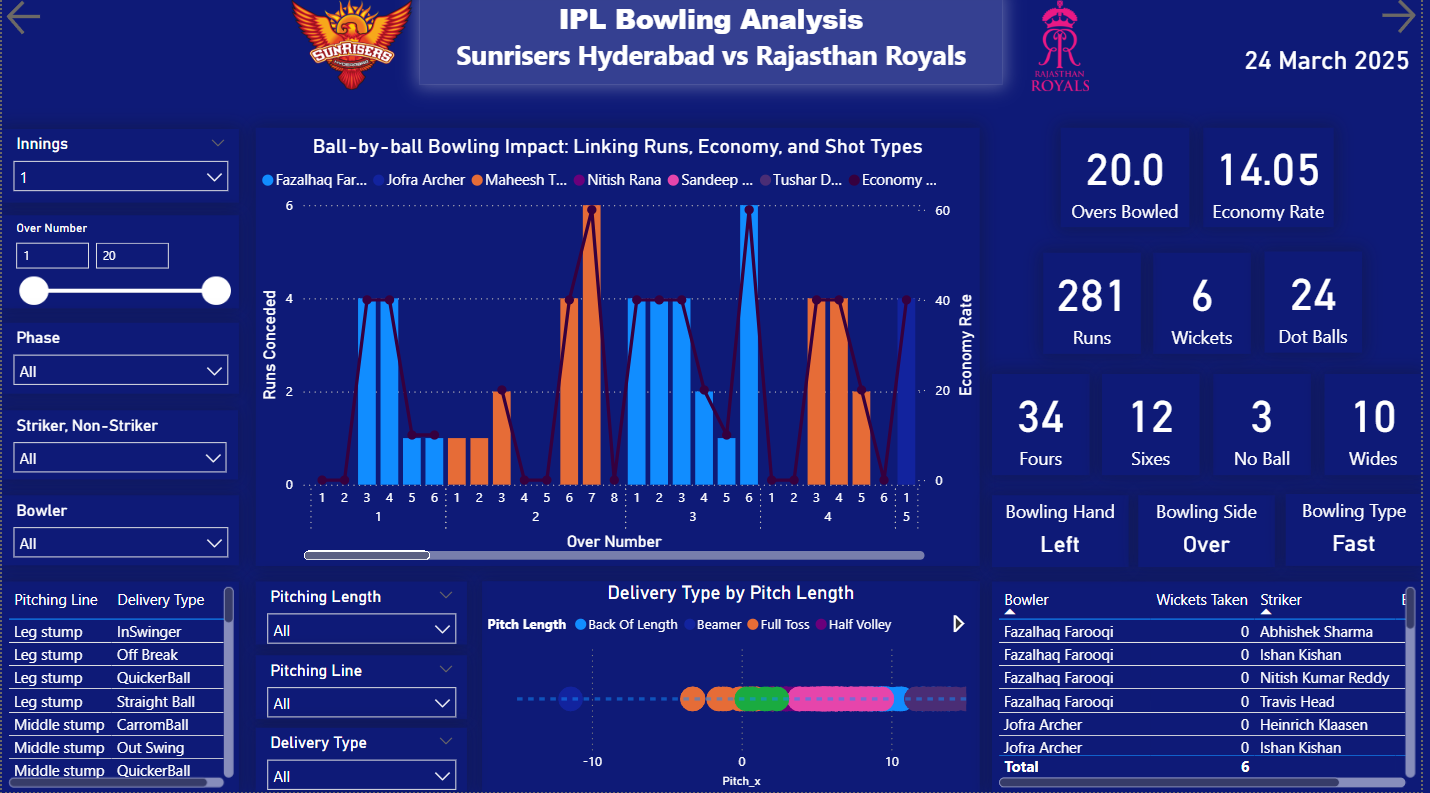

The page's visual inventory and layout, read from the dashboard file:
{"tool":"powerbi","page":{"name":"Bowler Analysis","canvas":[1280,720],"ordinal":1},"visuals":[{"type":"card","fields":{"Values":["Cricket Data.Wickets Taken"]},"box":[1038.4,233.6,88,91],"z":0},{"type":"card","fields":{"Values":["Cricket Data.Runs Conceded"]},"box":[938.9,233.3,88,91],"z":1000},{"type":"lineStackedColumnComboChart","title":"Ball-by-ball Bowling Impact: Linking Runs, Economy, and Shot Types","fields":{"Category":["Cricket Data.Over Number","Cricket Data.Over Ball","Cricket Data.Striker","Cricket Data.Shot Type"],"Y2":["Cricket Data.Economy Rate"],"Y":["Cricket Data.Runs Conceded"],"Series":["Cricket Data.Bowler"]},"box":[228.7,121.1,653,395],"z":2000},{"type":"scatterChart","title":"Delivery Type by Pitch Length ","fields":{"X":["Cricket Data.Pitch_x"],"Series":["Pitch Length Order.Pitch Length"]},"box":[432.9,529.5,448.8,190.8],"z":3000},{"type":"tableEx","fields":{"Values":["Cricket Data.Pitching Line","Cricket Data.Delivery Type"]},"box":[0,529.5,214,190.8],"z":4000},{"type":"tableEx","fields":{"Values":["Cricket Data.Bowler","Cricket Data.Wickets Taken","Cricket Data.Striker","Sum(Cricket Data.Batter Runs)"]},"box":[892.7,529.5,386.4,190.8],"z":5000},{"type":"card","fields":{"Values":["Sum(Cricket Data.No Ball)"]},"box":[1091.7,343.1,88,91],"z":6000},{"type":"card","fields":{"Values":["Sum(Cricket Data.Wides)"]},"box":[1192.4,342.9,88,91],"z":7000},{"type":"textbox","box":[376.6,0,525.8,81.9],"z":8000},{"type":"slicer","fields":{"Values":["Cricket Data.Innings"]},"box":[0,121.3,214,66],"z":9000},{"type":"slicer","fields":{"Values":["Cricket Data.Over Number"]},"box":[0,199.3,214,84.4],"z":10000},{"type":"slicer","fields":{"Values":["Cricket Data.Bowler"]},"box":[0,452.4,214,63.6],"z":11000},{"type":"slicer","fields":{"Values":["Cricket Data.Phase"]},"box":[0,296.5,214,64],"z":12000},{"type":"card","fields":{"Values":["Cricket Data.DotBalls"]},"box":[1138.7,232.6,88,91],"z":13000},{"type":"card","fields":{"Values":["Cricket Data.Fours"]},"box":[892.8,342.9,88,91],"z":14000},{"type":"card","fields":{"Values":["Cricket Data.Sixes"]},"box":[991.8,342.9,88,91],"z":15000},{"type":"actionButton","box":[1238.7,0,40.4,40.4],"z":16000},{"type":"card","fields":{"Values":["Min(Cricket Data.Date)"]},"box":[1110,42.8,170,33],"z":17000},{"type":"actionButton","box":[0,1.2,44,40.4],"z":18000},{"type":"card","title":"Bowling Hand","fields":{"Values":["Min(Cricket Data.Bowling Hand)"]},"box":[892.7,451.5,123,65],"z":19000},{"type":"card","title":"Bowling Side","fields":{"Values":["Min(Cricket Data.Bowling Side)"]},"box":[1024.7,451.5,123,65],"z":20000},{"type":"card","title":"Bowling Type","fields":{"Values":["Min(Cricket Data.Bowling Type)"]},"box":[1157.4,451.2,123,65],"z":21000},{"type":"card","title":"Economy Rate","fields":{"Values":["Cricket Data.Economy Rate"]},"box":[1083.2,121.1,117.4,89.3],"z":22000},{"type":"slicer","fields":{"Values":["Cricket Data.Pitching Length"]},"box":[228.7,529.5,190.8,57],"z":23000},{"type":"slicer","fields":{"Values":["Cricket Data.Pitching Line"]},"box":[228.9,595.8,190.8,57.5],"z":24000},{"type":"slicer","fields":{"Values":["Cricket Data.Delivery Type"]},"box":[229.2,661.8,190.8,57.5],"z":25000},{"type":"card","fields":{"Values":["Cricket Data.Overs Bowled"]},"box":[954.8,121.1,116.2,89.3],"z":26000},{"type":"image","box":[254.7,0,121.7,91.3],"z":27000},{"type":"image","box":[907.3,1.1,93.6,91.3],"z":28000},{"type":"slicer","fields":{"Values":["Cricket Data.Striker","Cricket Data.Non-Striker"]},"box":[0,375.6,212.8,62.8],"z":29000}]}

Visuals, with their boxes in screenshot pixels (x1, y1, x2, y2), scaled from the page's 1280x720 canvas onto the 1430x793 screenshot:
card - Cricket Data.Wickets Taken: x1=1160, y1=257, x2=1258, y2=358
card - Cricket Data.Runs Conceded: x1=1049, y1=257, x2=1147, y2=357
"Ball-by-ball Bowling Impact: Linking Runs, Economy, and Shot Types" lineStackedColumnComboChart: x1=256, y1=133, x2=985, y2=568
"Delivery Type by Pitch Length " scatterChart: x1=484, y1=583, x2=985, y2=792
tableEx - Cricket Data.Pitching Line x Cricket Data.Delivery Type: x1=0, y1=583, x2=239, y2=792
tableEx - Cricket Data.Bowler x Cricket Data.Wickets Taken: x1=997, y1=583, x2=1429, y2=792
card - Sum(Cricket Data.No Ball): x1=1220, y1=378, x2=1318, y2=478
card - Sum(Cricket Data.Wides): x1=1332, y1=378, x2=1429, y2=478
textbox: x1=421, y1=0, x2=1008, y2=90
slicer - Cricket Data.Innings: x1=0, y1=134, x2=239, y2=206
slicer - Cricket Data.Over Number: x1=0, y1=220, x2=239, y2=312
slicer - Cricket Data.Bowler: x1=0, y1=498, x2=239, y2=568
slicer - Cricket Data.Phase: x1=0, y1=327, x2=239, y2=397
card - Cricket Data.DotBalls: x1=1272, y1=256, x2=1370, y2=356
card - Cricket Data.Fours: x1=997, y1=378, x2=1096, y2=478
card - Cricket Data.Sixes: x1=1108, y1=378, x2=1206, y2=478
actionButton: x1=1384, y1=0, x2=1429, y2=44
card - Min(Cricket Data.Date): x1=1240, y1=47, x2=1429, y2=83
actionButton: x1=0, y1=1, x2=49, y2=46
"Bowling Hand" card: x1=997, y1=497, x2=1135, y2=569
"Bowling Side" card: x1=1145, y1=497, x2=1282, y2=569
"Bowling Type" card: x1=1293, y1=497, x2=1429, y2=569
"Economy Rate" card: x1=1210, y1=133, x2=1341, y2=232
slicer - Cricket Data.Pitching Length: x1=256, y1=583, x2=469, y2=646
slicer - Cricket Data.Pitching Line: x1=256, y1=656, x2=469, y2=720
slicer - Cricket Data.Delivery Type: x1=256, y1=729, x2=469, y2=792
card - Cricket Data.Overs Bowled: x1=1067, y1=133, x2=1197, y2=232
image: x1=285, y1=0, x2=421, y2=101
image: x1=1014, y1=1, x2=1118, y2=102
slicer - Cricket Data.Striker x Cricket Data.Non-Striker: x1=0, y1=414, x2=238, y2=483
